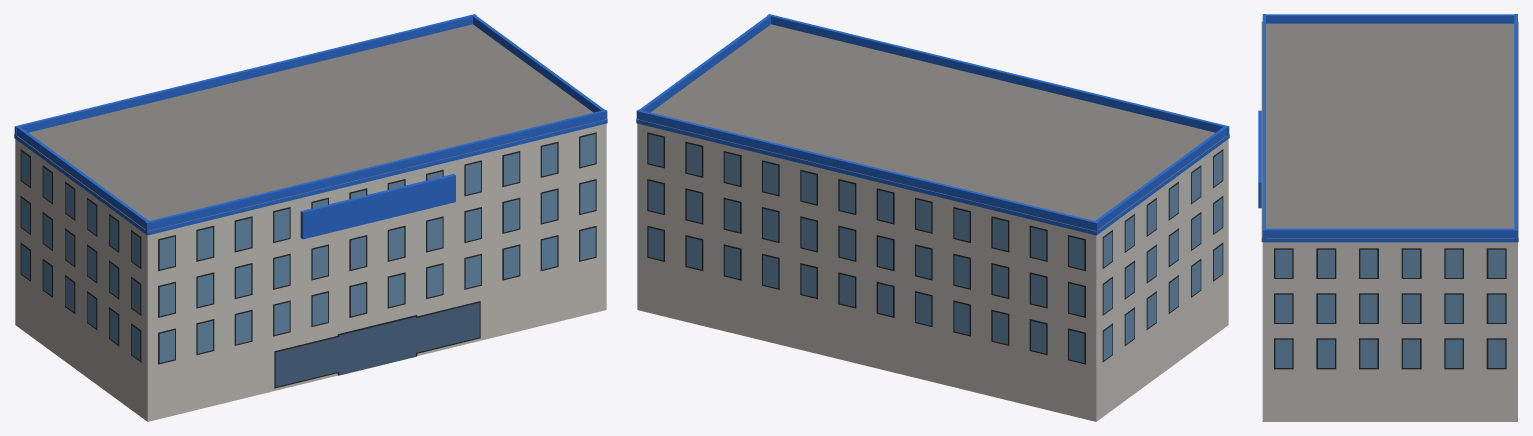
File: commissariat.glb
The picture shows the model from 3 angles, left to right: view 1: azimuth 30°, elevation 25°; view 2: azimuth 150°, elevation 25°; view 3: azimuth 270°, elevation 25°; orthographic projection. The views are drawn at different scales.
Visible parts, largest first — view 1: commissariat; view 2: commissariat; view 3: commissariat.
Boxes of the visible parts, <box> form: commissariat: <box>14,14,607,421</box>; commissariat: <box>636,14,1229,421</box>; commissariat: <box>1258,14,1518,421</box>.
Bounding box in the file's own units: 36.1 × 14.9 × 18.35.
1 material, 1 textured.
